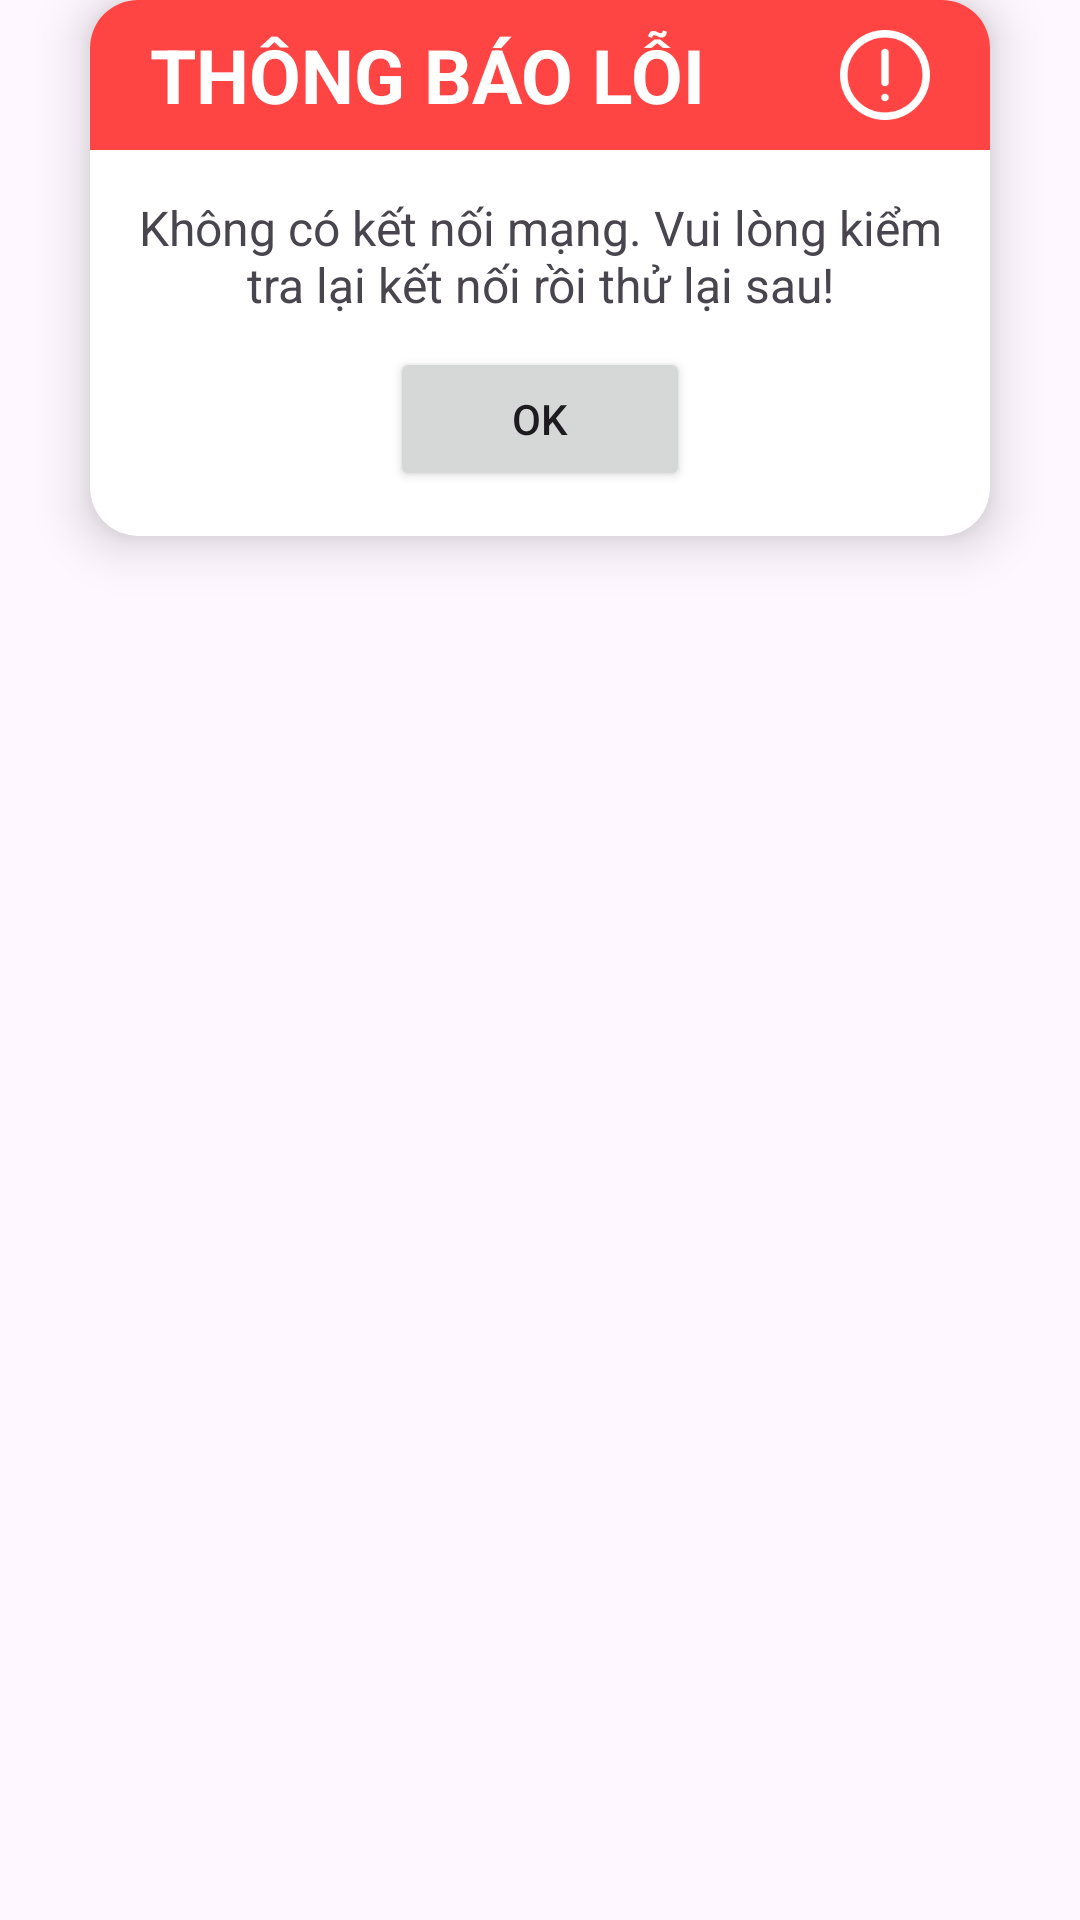

Named icons in this screenshot (1080px×1920px) and their centers, (x=x, y=y):
error: (x=885, y=75)
